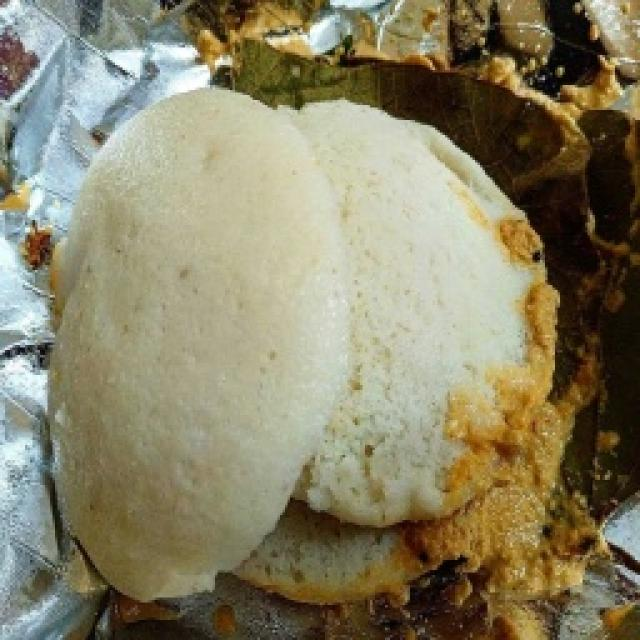idli: (50, 90, 347, 599), (290, 100, 557, 527)
